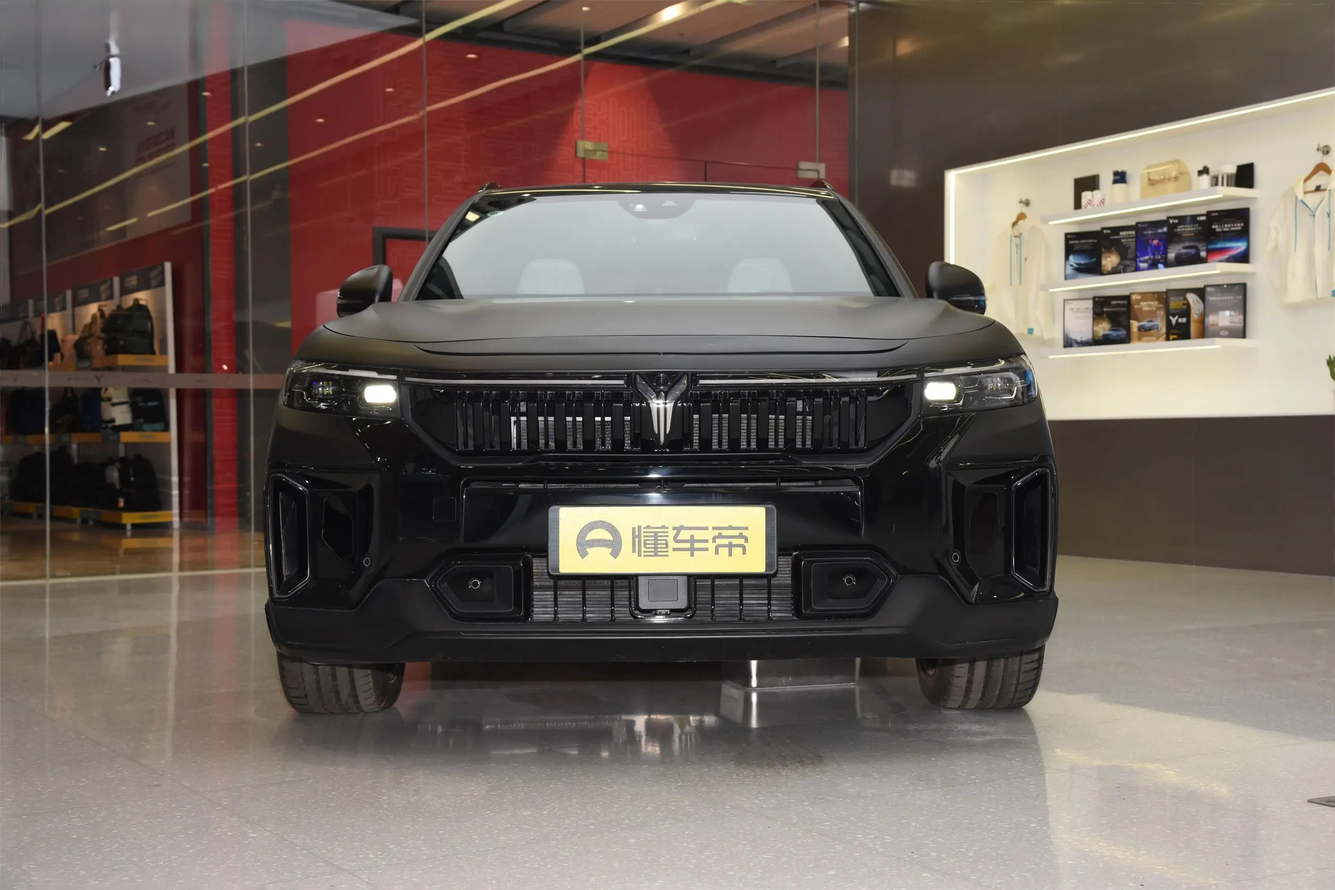VOYAH: (637, 374, 687, 444)
